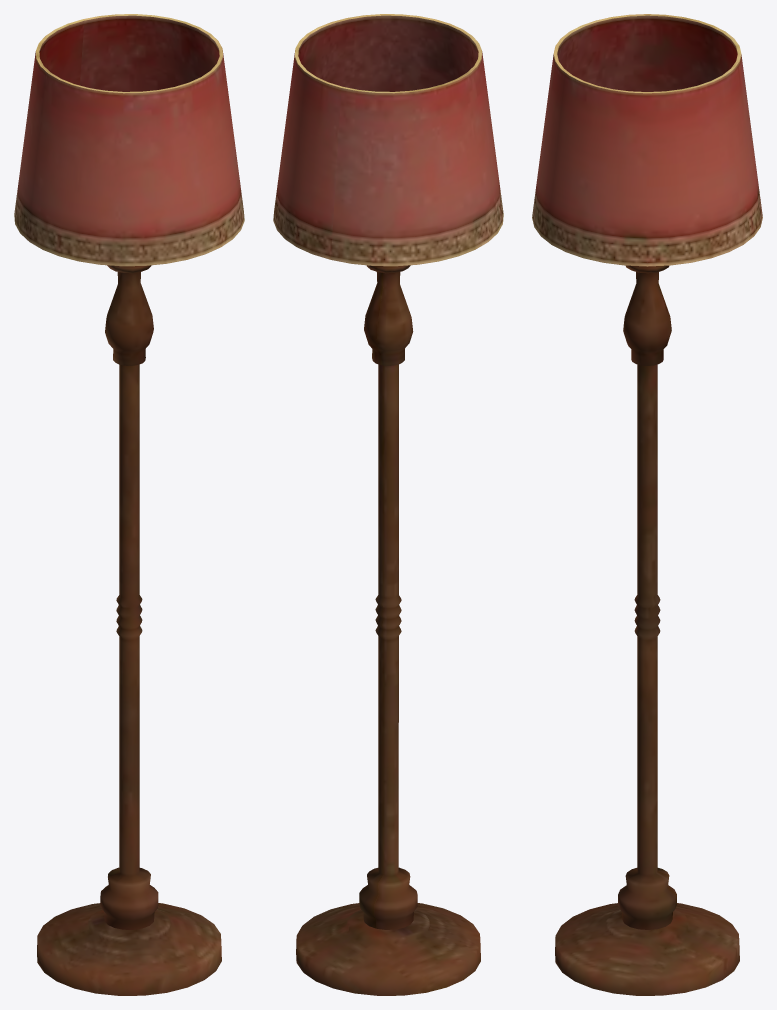
Rendered from SM_Night_lamp_2_0903c6.glb.
The picture shows the model from 3 angles, left to right: view 1: azimuth 30°, elevation 25°; view 2: azimuth 150°, elevation 25°; view 3: azimuth 270°, elevation 25°; orthographic projection.
Bounding box in the file's own units: 0.3305 × 1.43 × 0.3305.
Materials: 1 (1 with a texture image).
